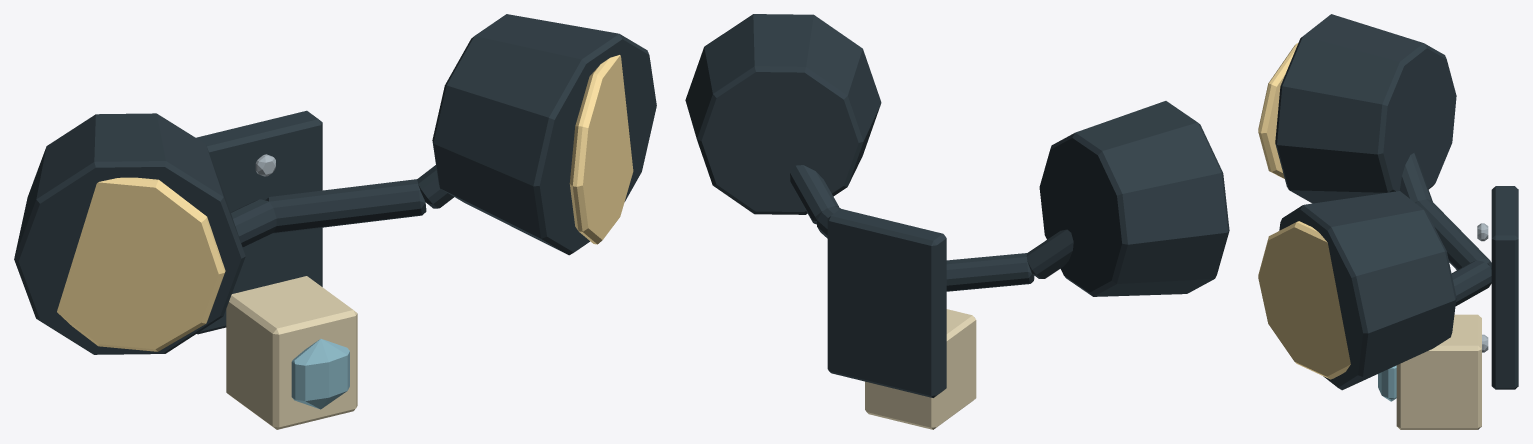
Rendered from b18_twin_motion_sensor_security_light.glb.
3 views of the same model, side by side, from view 1: azimuth 30°, elevation 25°; view 2: azimuth 150°, elevation 25°; view 3: azimuth 270°, elevation 25° (orthographic). The views are drawn at different scales.
Visible parts, largest first — view 1: b18_twin_motion_sensor_security_light; view 2: b18_twin_motion_sensor_security_light; view 3: b18_twin_motion_sensor_security_light.
Part boxes in pixels (x1,y1,x2,y2): b18_twin_motion_sensor_security_light: [14, 14, 656, 429]; b18_twin_motion_sensor_security_light: [685, 14, 1229, 429]; b18_twin_motion_sensor_security_light: [1258, 14, 1518, 429].
Size of the model in its own units: 0.7941 by 0.4183 by 0.3362.
